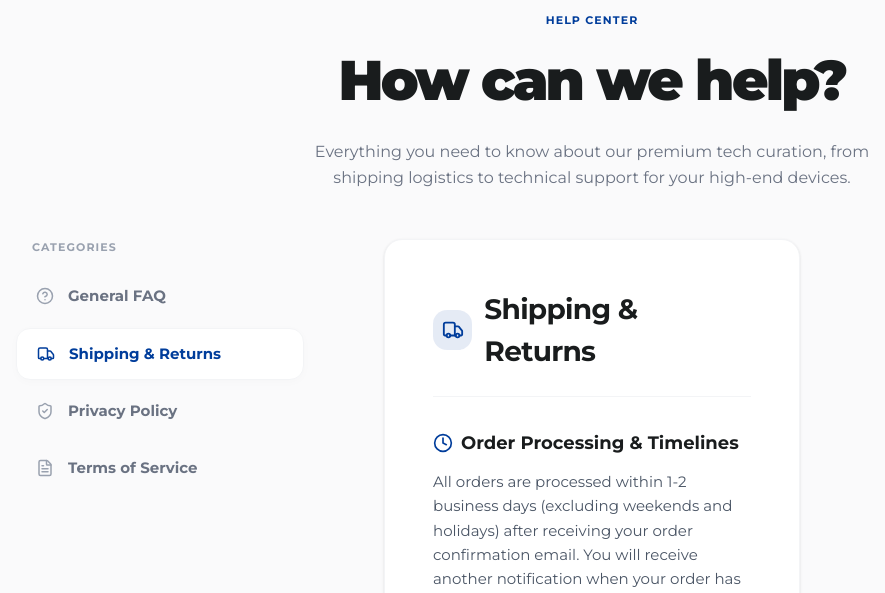
HelpCenterPage › switches tabs through the query string and expands an FAQ
Expected: the heading "Shipping & Returns" is shown, [484,292,637,368]
Expected: the button "Privacy Policy" is shown, [16,386,304,436]
Click the button "General FAQ" at (160, 296), box [16,271,304,322]
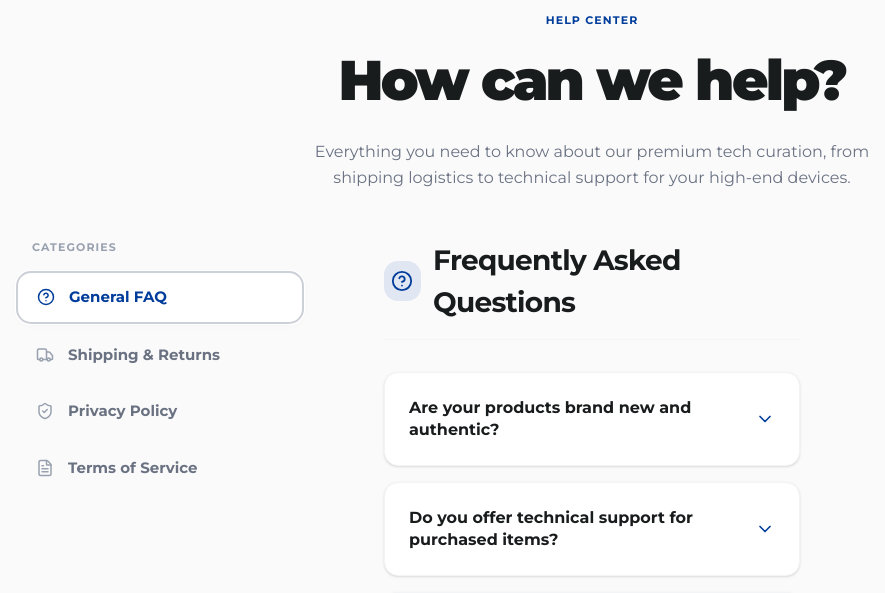
Expected: the heading "Frequently Asked Questions" is shown, [433,242,681,318]
Click the button "Are your products brand new and authentic?" at (592, 418), box [385,372,799,464]
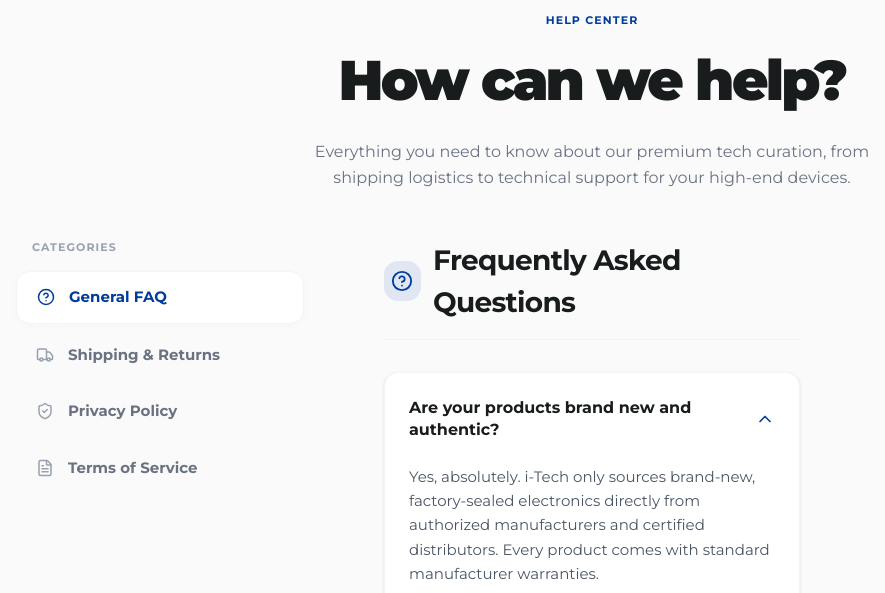
Expected: the text "Yes, absolutely" is shown, [409,466,770,583]
